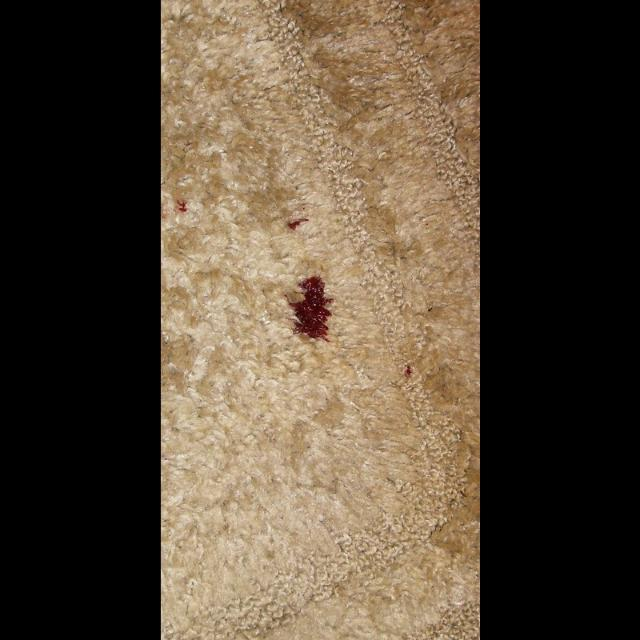blood: (284, 276, 334, 342), (288, 218, 309, 231), (176, 199, 186, 212), (406, 365, 412, 376)
